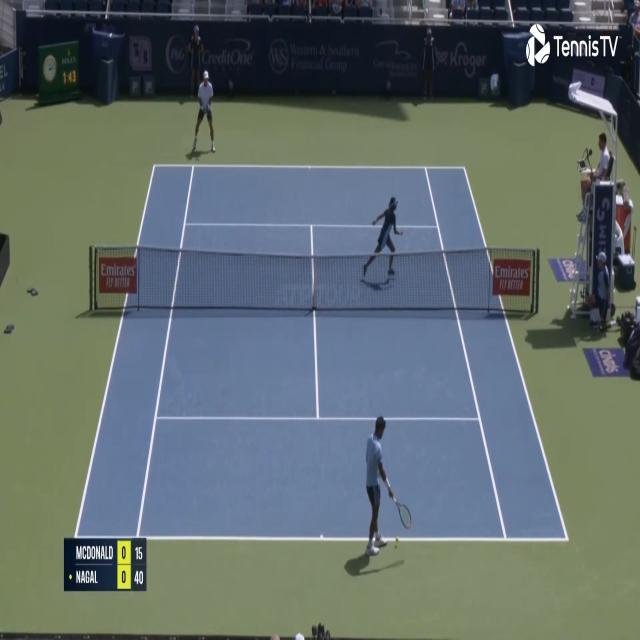tennis-player: (362, 400, 413, 560), (191, 62, 216, 154)
